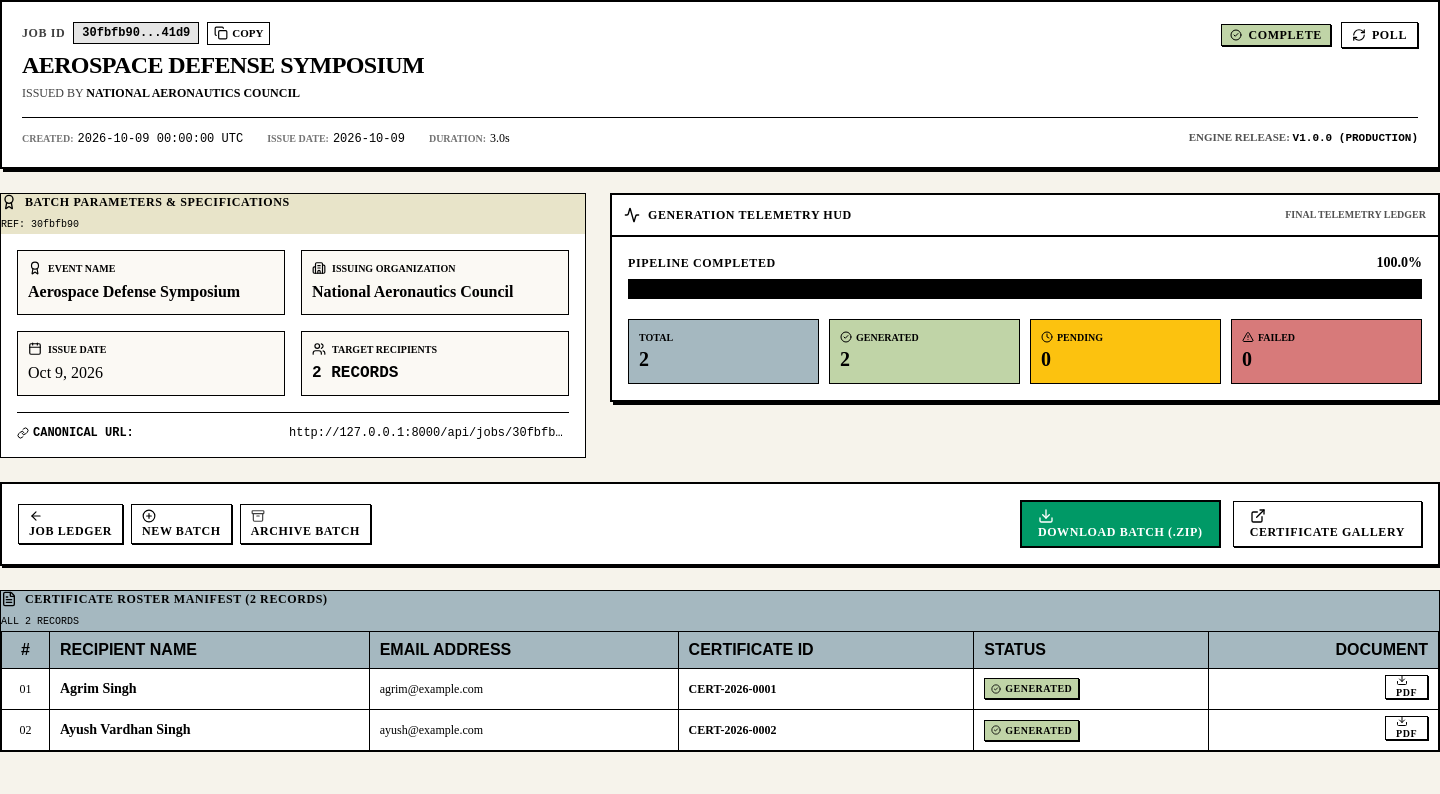
Test: JobDetailPage Integration Tests › exposes batch ZIP download button when job is COMPLETED
The image size is (1440, 794).
Check: the text "DOWNLOAD BATCH (.ZIP)" is shown, box [1038,508,1203,540]
Click the button with aria-label "Download generated certificate batch".
click(1120, 524)  # box [1020,500,1221,548]
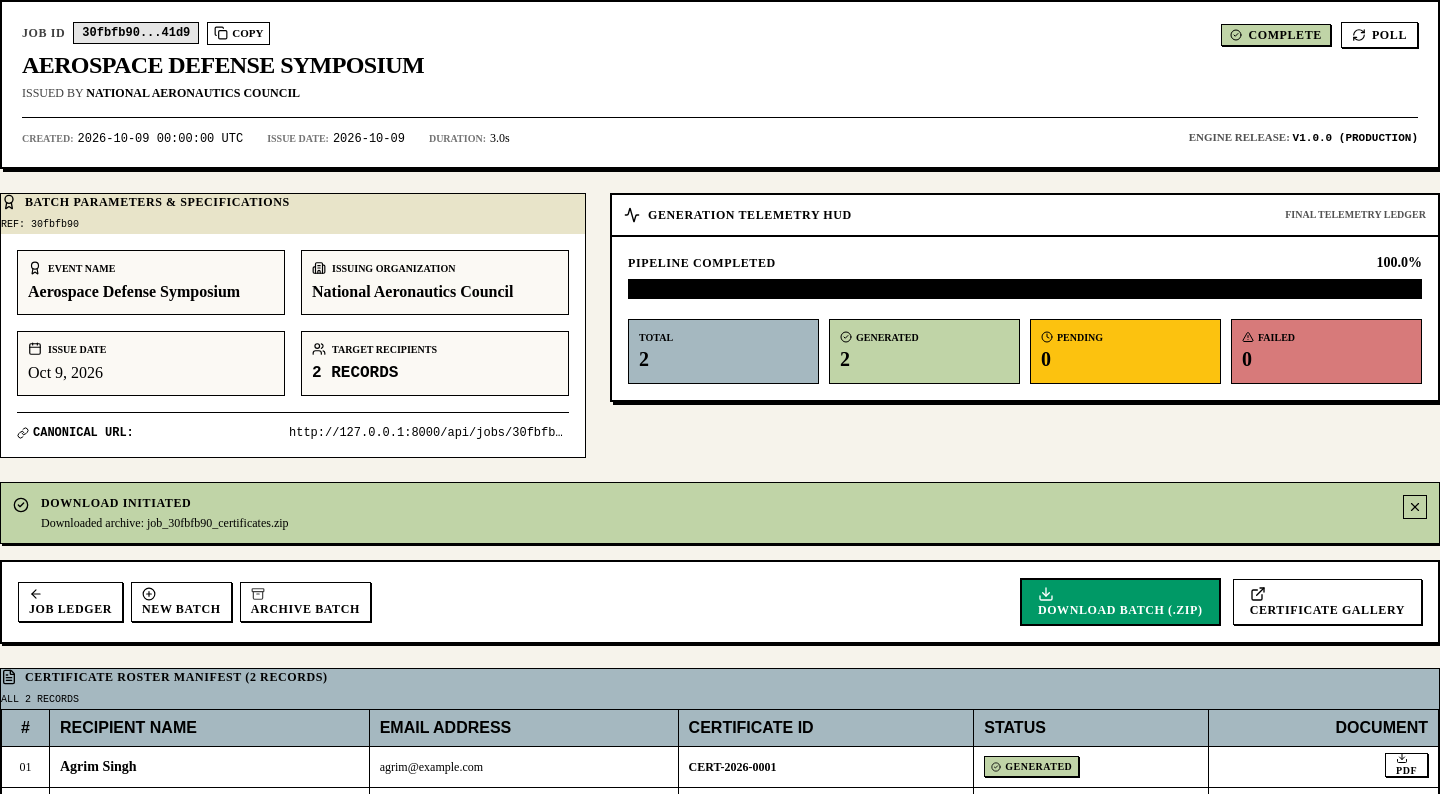
Check: the text "Downloaded archive: job_30fbfb90_certificates.zip" is shown, box [41,516,289,530]
